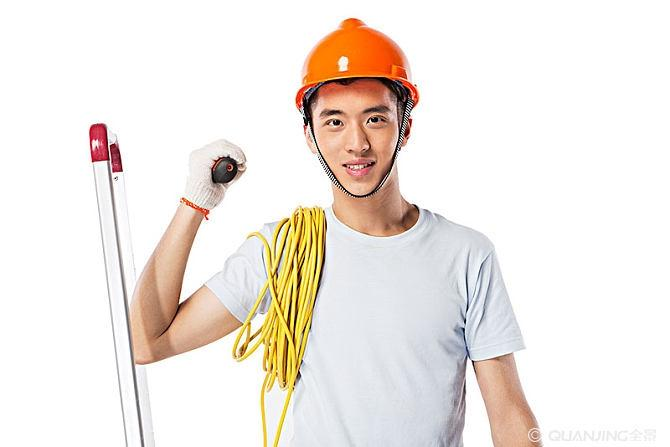helmet: (287, 16, 423, 114)
no_wear: (252, 215, 490, 444)
